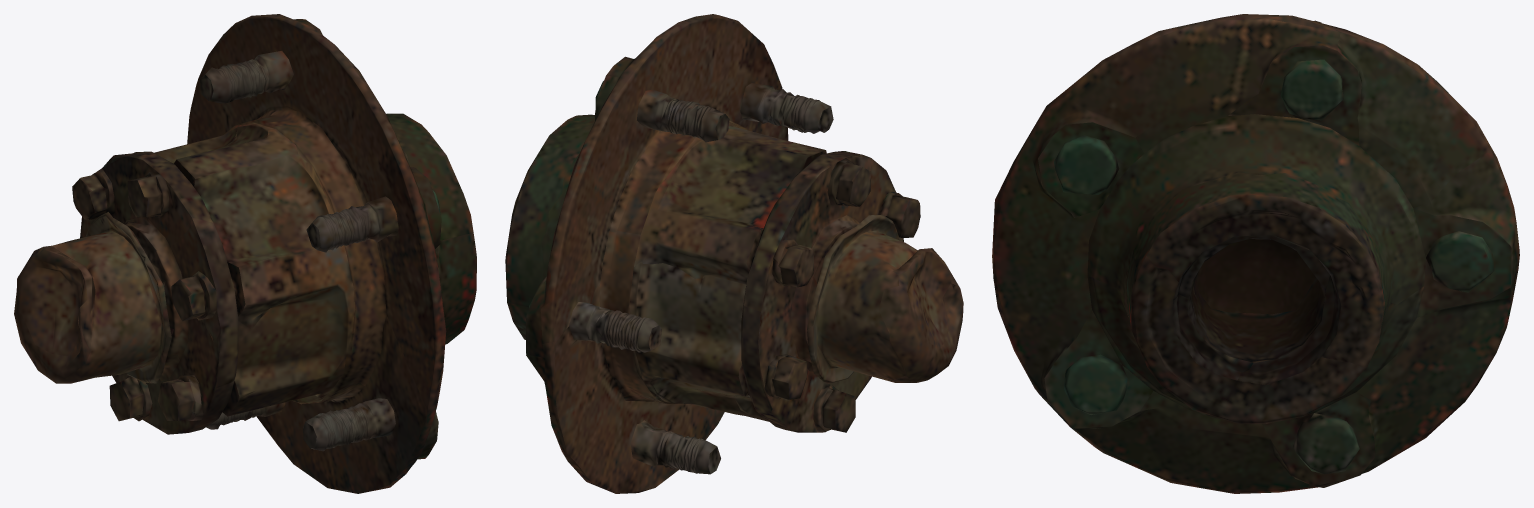
File: SM_Ind_Jun_Wheel_Hub_Metal_Rusty_01.gltf
3 renders of one model, left to right at view 1: azimuth 30°, elevation 25°; view 2: azimuth 150°, elevation 25°; view 3: azimuth 270°, elevation 25°, orthographic. The views are drawn at different scales.
Parts seen in each view (by area): view 1: SM_Ind_Jun_Wheel_Hub_Metal_Rusty_01; view 2: SM_Ind_Jun_Wheel_Hub_Metal_Rusty_01; view 3: SM_Ind_Jun_Wheel_Hub_Metal_Rusty_01.
Part boxes in pixels (x1,y1,x2,y2): SM_Ind_Jun_Wheel_Hub_Metal_Rusty_01: (14,14,476,493); SM_Ind_Jun_Wheel_Hub_Metal_Rusty_01: (505,14,963,493); SM_Ind_Jun_Wheel_Hub_Metal_Rusty_01: (992,14,1519,493).
Bounding box in the file's own units: 0.1641 × 0.1814 × 0.1821.
Materials: 1 (1 with a texture image).
